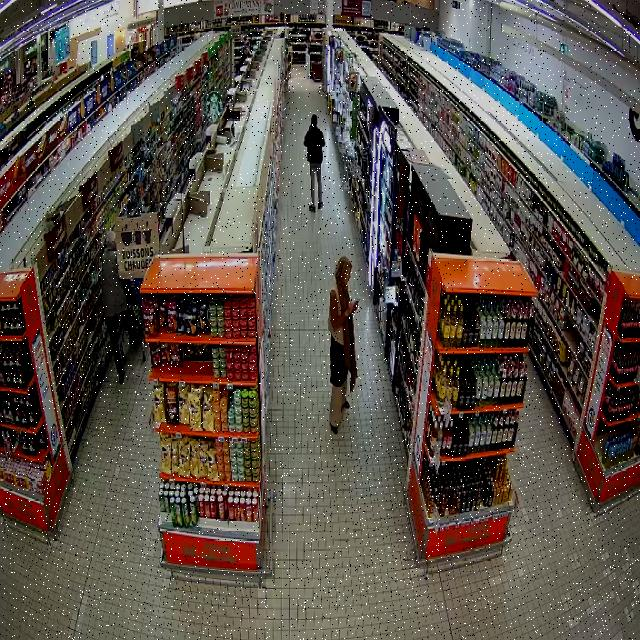hands: (348, 303, 358, 315)
person: (102, 232, 136, 383), (329, 256, 358, 433), (305, 114, 325, 211)
